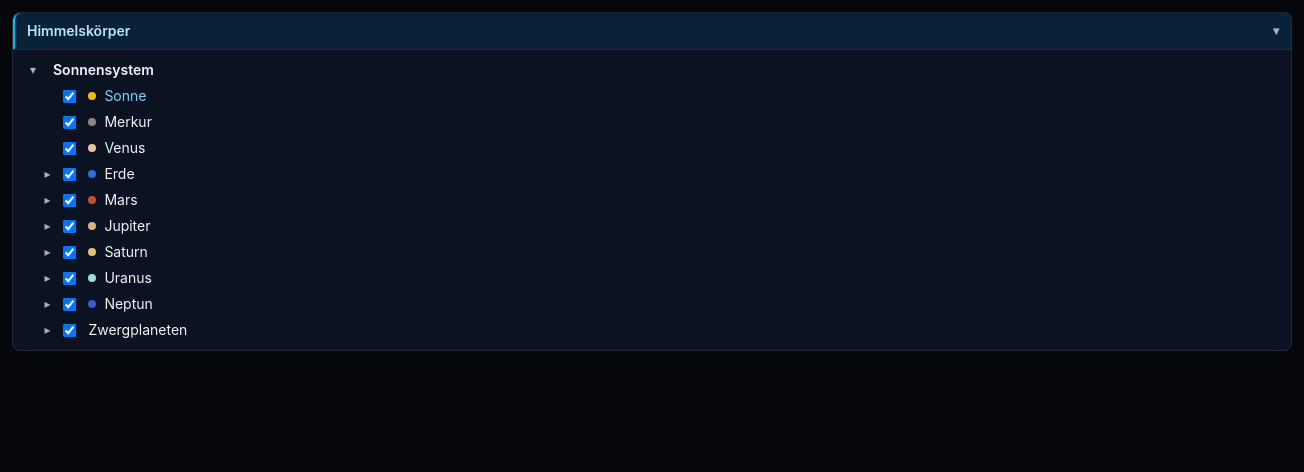
it: BodyTree mit Monden › klappt eine Gruppe auf Klick auf
Click the button named "Jupiter aufklappen".
click(47, 226)  # box [39,218,55,234]
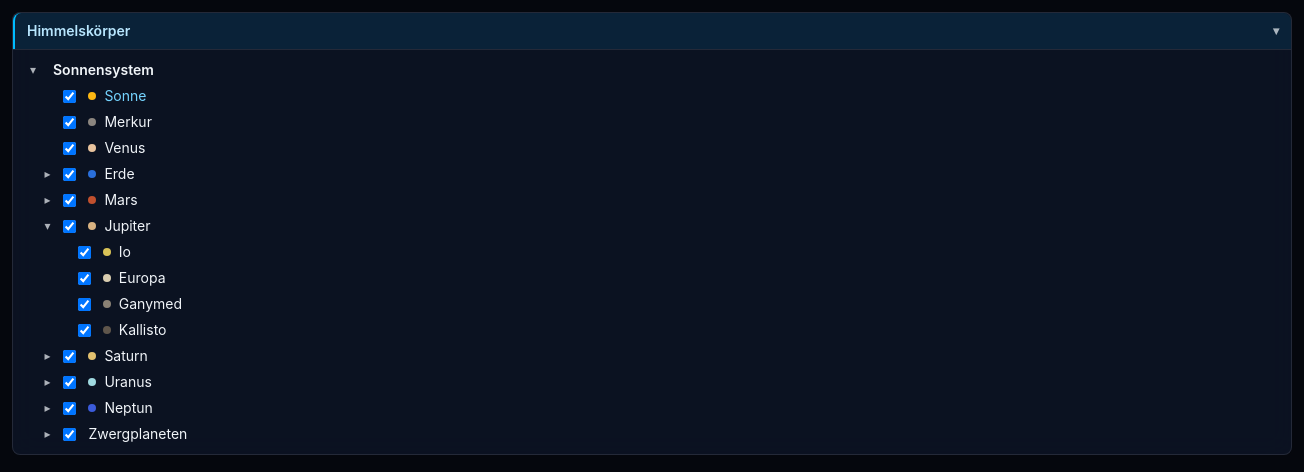
Check: the text "Europa" is shown, box [119,268,166,288]
